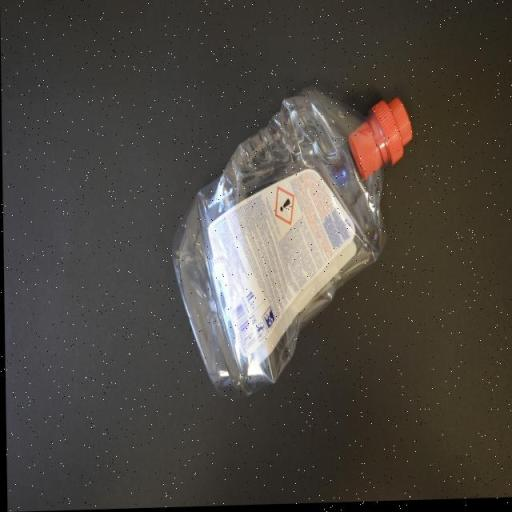plastic: (169, 89, 415, 398)
